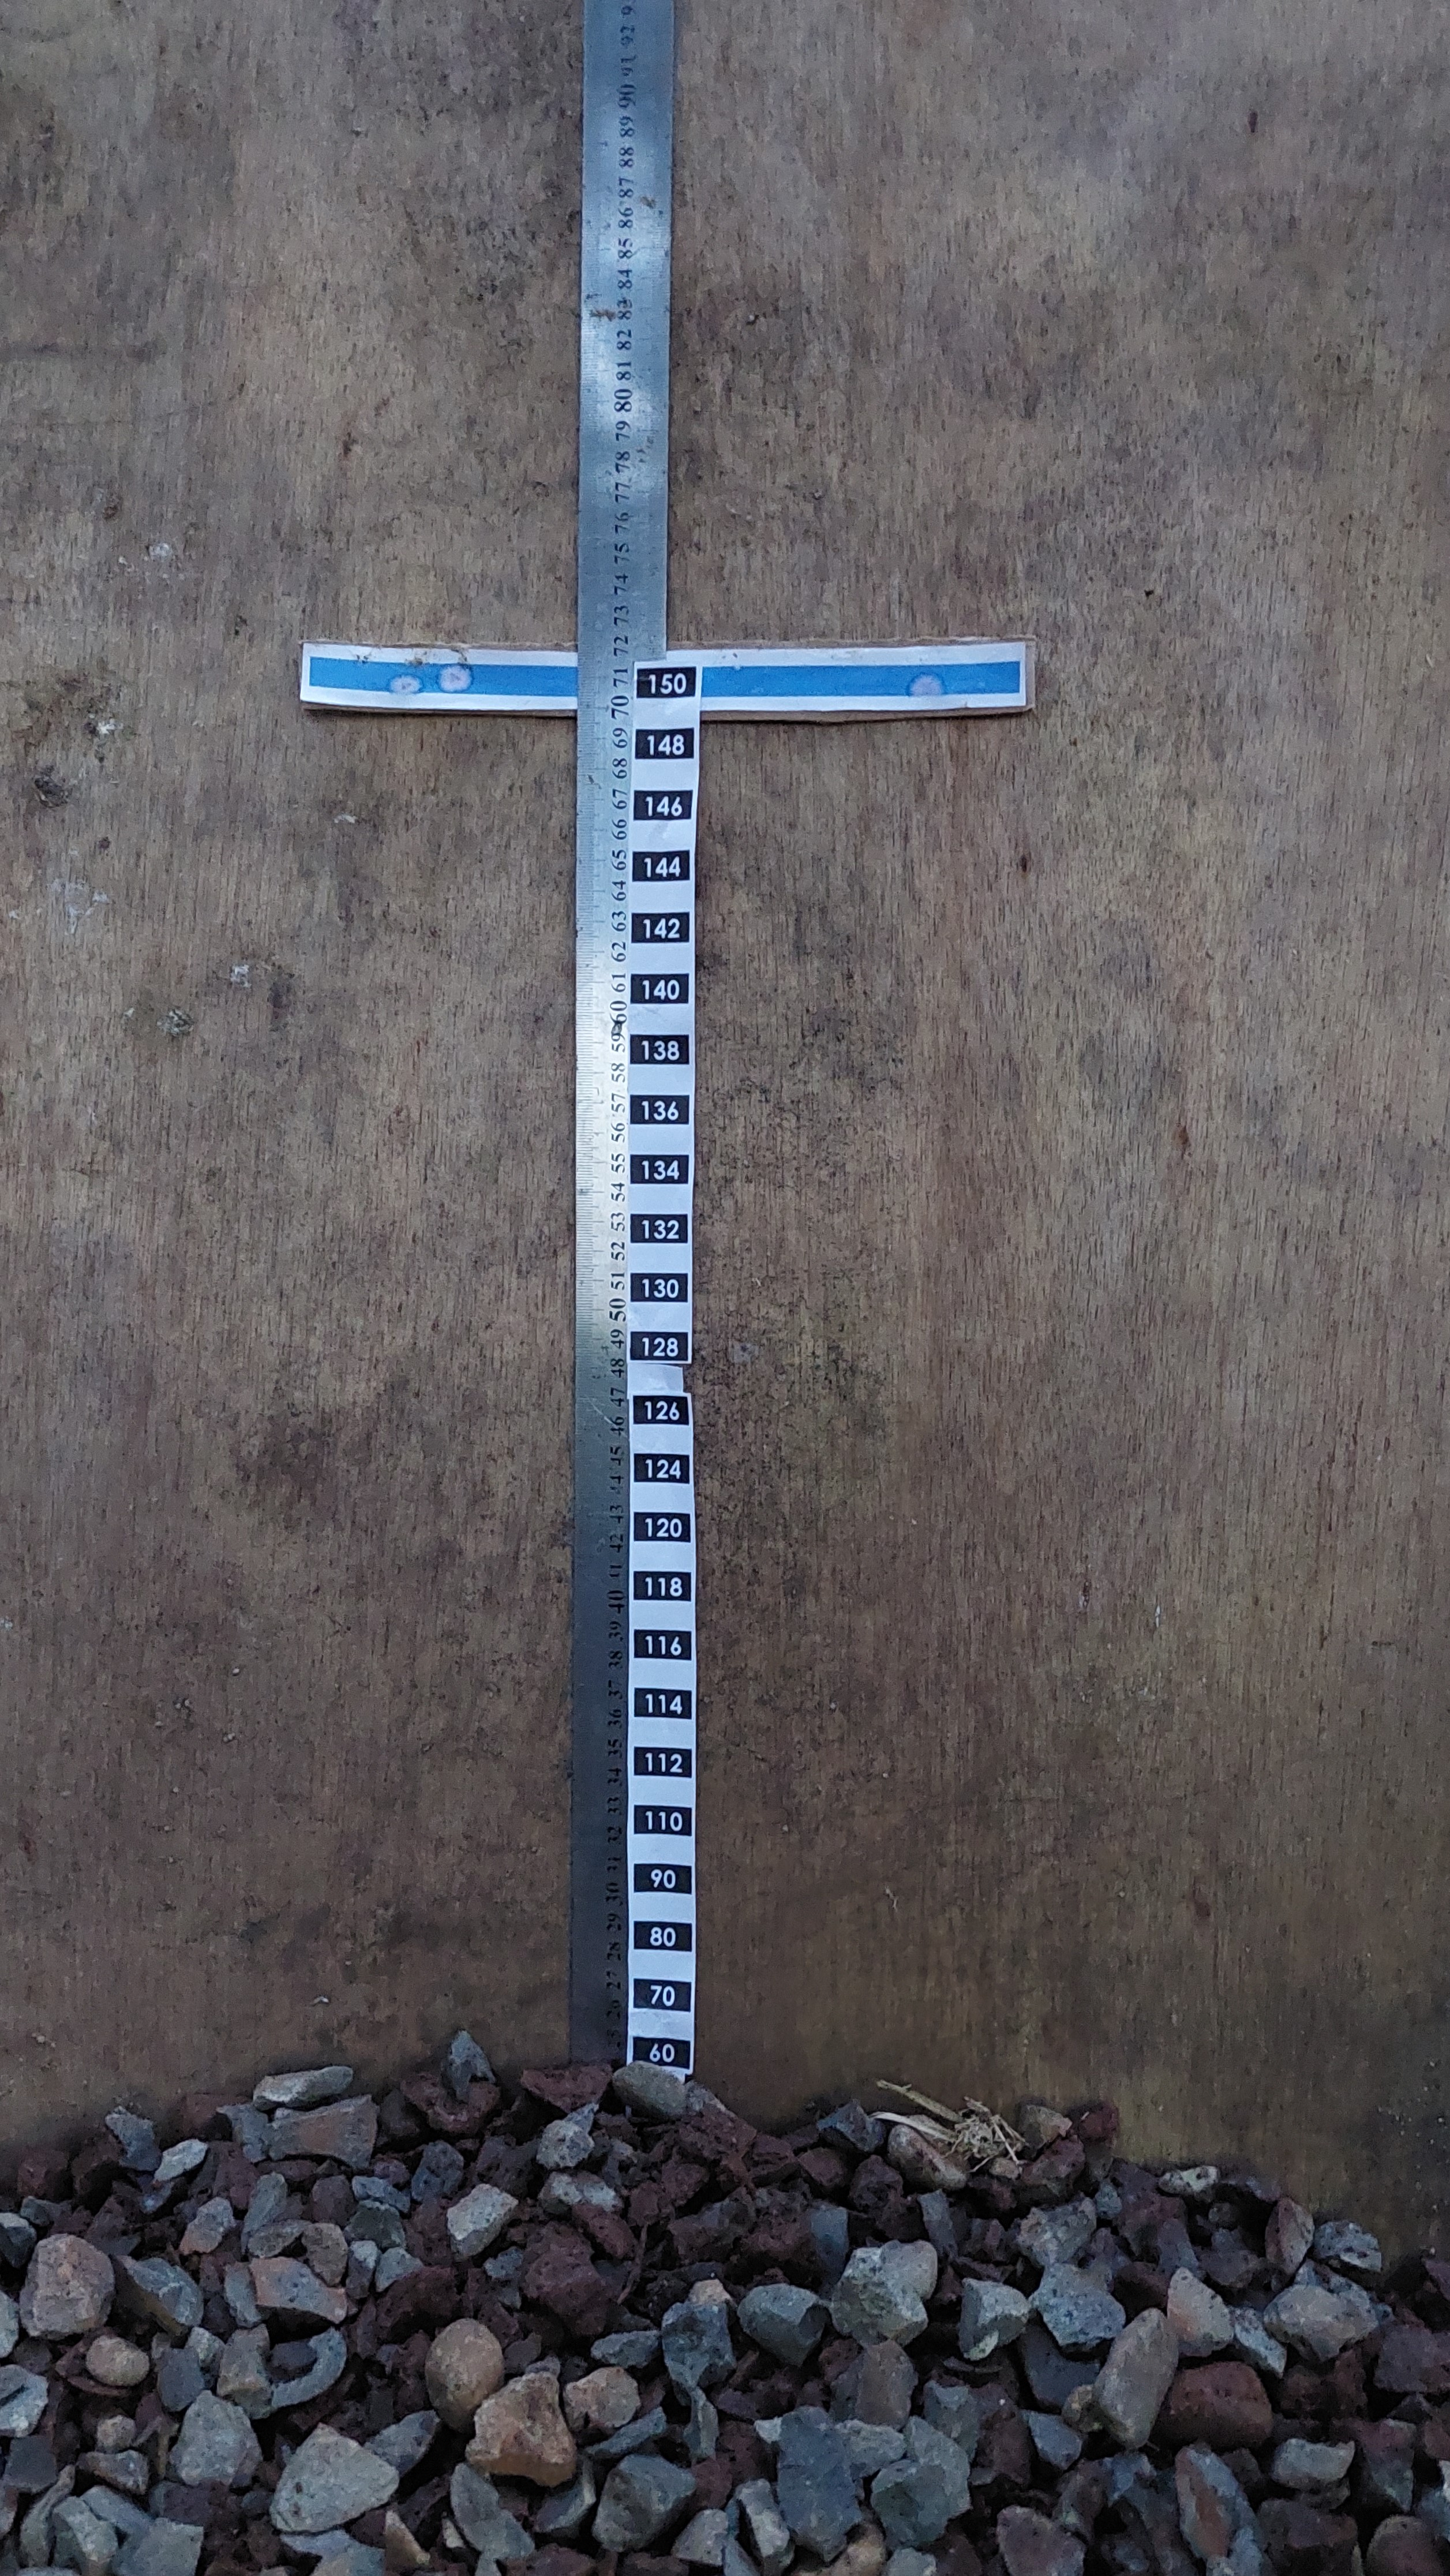kotak_2x1: (630, 1973, 695, 2017), (630, 1741, 695, 1782), (630, 1859, 695, 1900), (630, 1566, 697, 1605), (630, 1624, 697, 1663), (630, 1683, 697, 1721), (635, 663, 700, 702), (628, 1090, 693, 1129), (628, 1391, 693, 1430), (631, 1801, 697, 1840), (630, 1918, 695, 1957), (631, 786, 695, 824), (630, 846, 693, 885), (628, 1269, 691, 1307), (628, 970, 693, 1007), (628, 1030, 693, 1067), (628, 1327, 693, 1364), (630, 1509, 697, 1545), (633, 725, 697, 763), (628, 1150, 691, 1187), (628, 909, 693, 945), (630, 1449, 695, 1484), (628, 1210, 690, 1247)
mal_biru_150: (302, 648, 1026, 708)
